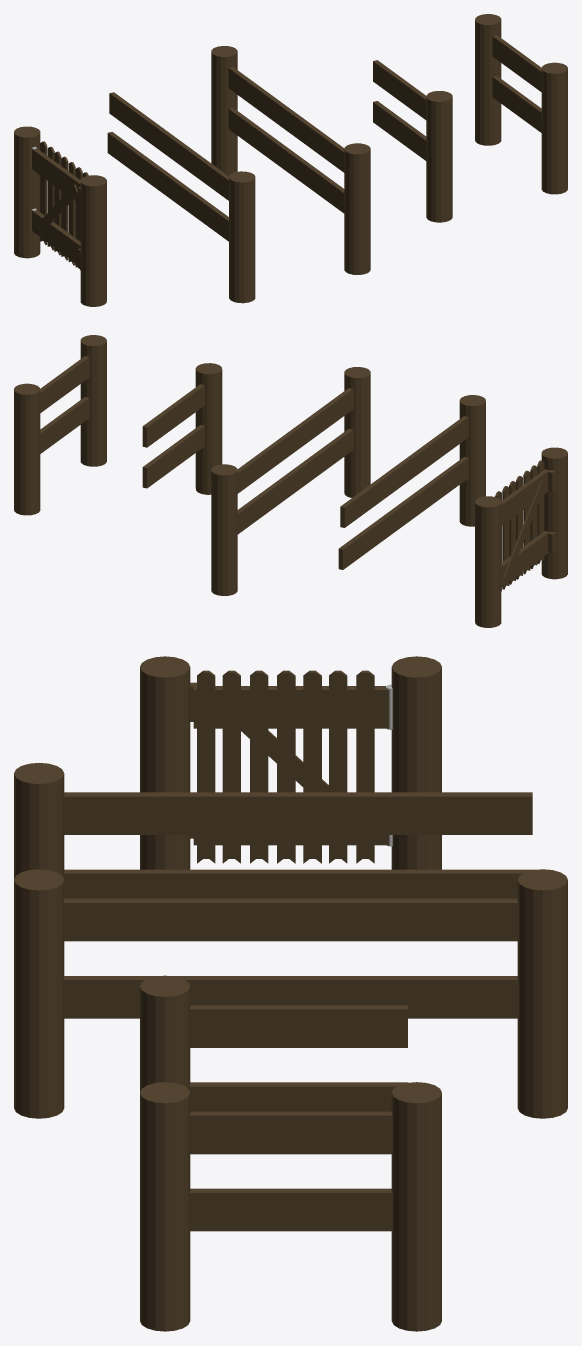
Rendered from Fences.fbx.
3 views of the same model, one above another, from view 1: azimuth 30°, elevation 25°; view 2: azimuth 150°, elevation 25°; view 3: azimuth 270°, elevation 25° (orthographic). The views are drawn at different scales.
Parts seen in each view (by area): view 1: Post1.004, Post1.003, Post1.002, Post1, Post1.001, post2.002, Cube.007, post2, Cube.006, Cube.005, Cube.004, post2.001 (+9 smaller); view 2: post2.002, post2.001, post2, Cube.007, Cube.006, Post1.004, Post1.002, Cube.005, Cube.004, Post1.001, Post1.003, Post1 (+9 smaller); view 3: Cube.006, Cube.004, Cube.005, Cube.007, Post1.002, post2.001, Post1.004, post2.002, Cube.002, Cube.008, Cube.009, Post1 (+12 smaller).
Part boxes in pixels (bbox=[...]): Post1.004: bbox=[541, 62, 567, 194]; Post1.003: bbox=[229, 171, 255, 303]; Post1.002: bbox=[344, 143, 370, 274]; Post1: bbox=[80, 175, 106, 306]; Post1.001: bbox=[426, 91, 452, 222]; post2.002: bbox=[475, 14, 501, 145]; Cube.007: bbox=[107, 132, 228, 241]; post2: bbox=[14, 126, 40, 258]; Cube.006: bbox=[109, 92, 229, 200]; Cube.005: bbox=[228, 107, 344, 213]; Cube.004: bbox=[228, 67, 344, 172]; post2.001: bbox=[211, 46, 237, 175]; post2.002: bbox=[14, 383, 40, 515]; post2.001: bbox=[211, 464, 237, 595]; post2: bbox=[475, 496, 501, 627]; Cube.007: bbox=[338, 456, 468, 569]; Cube.006: bbox=[340, 416, 468, 527]; Post1.004: bbox=[80, 335, 106, 466]; Post1.002: bbox=[344, 367, 370, 497]; Cube.005: bbox=[237, 428, 353, 534]; Cube.004: bbox=[237, 388, 353, 493]; Post1.001: bbox=[195, 363, 222, 494]; Post1.003: bbox=[459, 395, 485, 526]; Post1: bbox=[541, 447, 567, 579]; Cube.006: bbox=[63, 792, 532, 834]; Cube.004: bbox=[63, 898, 518, 941]; Cube.005: bbox=[63, 976, 518, 1018]; Cube.007: bbox=[63, 869, 535, 898]; Post1.002: bbox=[14, 869, 64, 1118]; post2.001: bbox=[517, 869, 567, 1118]; Post1.004: bbox=[140, 1082, 190, 1331]; post2.002: bbox=[391, 1082, 441, 1331]; Cube.002: bbox=[189, 1005, 407, 1047]; Cube.008: bbox=[189, 1111, 392, 1154]; Cube.009: bbox=[189, 1188, 392, 1231]; Post1: bbox=[140, 656, 190, 869].
Size of the model in its own units: 420 by 100 by 220.
